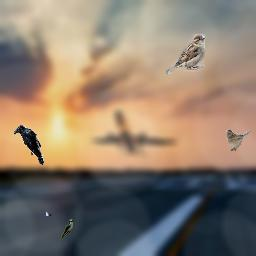Crow: (14, 125, 44, 165), (46, 189, 56, 216)
Sparrow: (166, 34, 205, 74), (226, 129, 251, 151)
Swallow: (61, 219, 73, 238)
